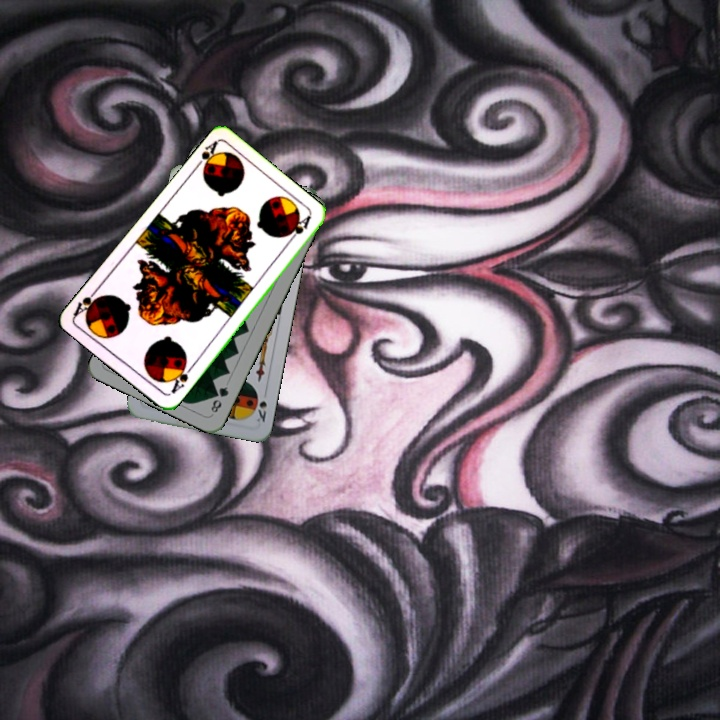G8: (207, 382, 231, 415)
SA: (190, 137, 223, 177), (166, 358, 195, 397)
SK: (251, 386, 270, 425)
